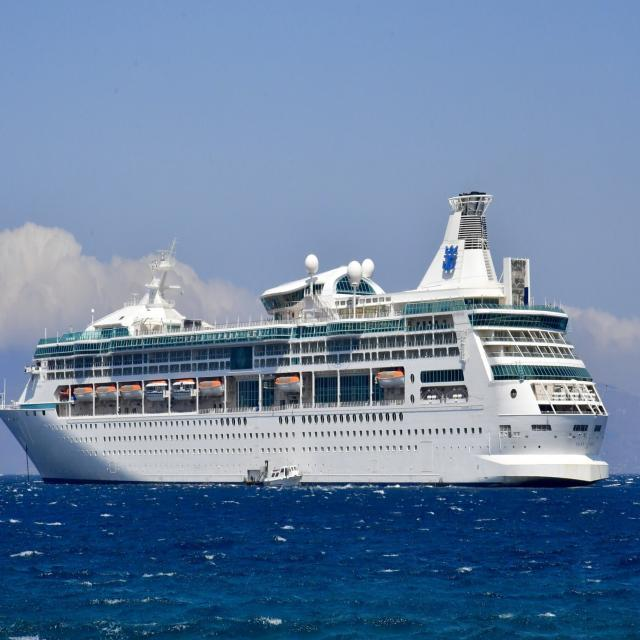houseboat: (257, 453, 302, 486)
passenger ship: (4, 180, 613, 486)
